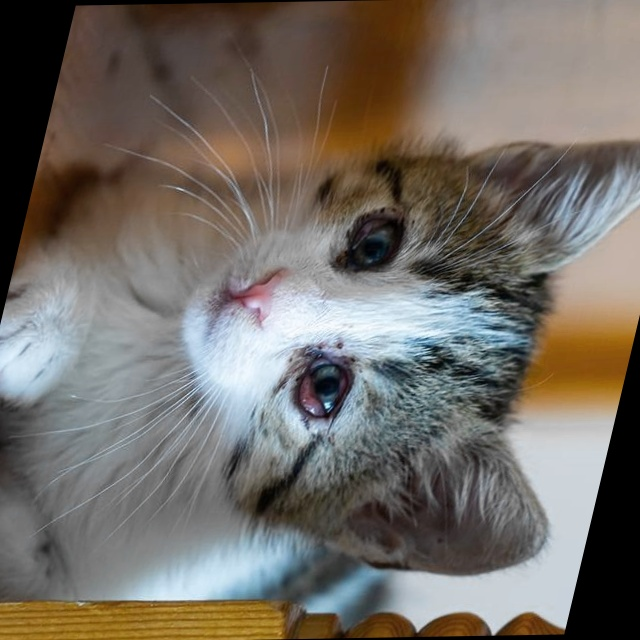eye_infection: (284, 345, 364, 427), (340, 218, 416, 272)
